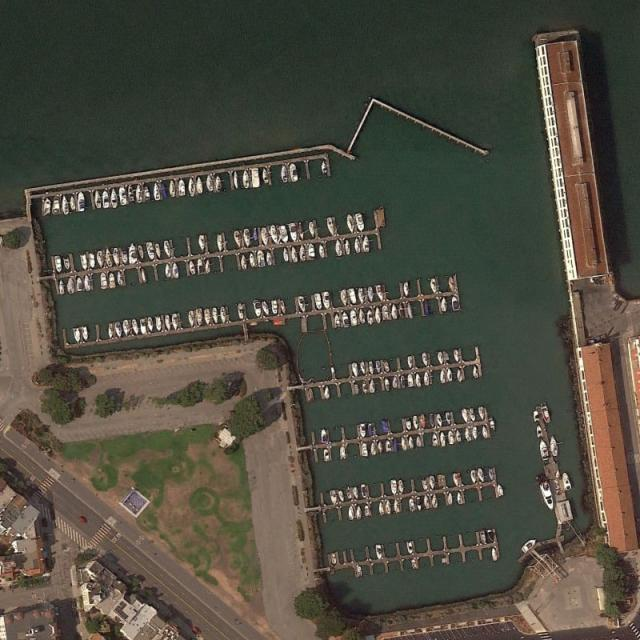vehicle: (362, 442, 368, 458), (78, 516, 87, 524), (192, 626, 201, 634)
